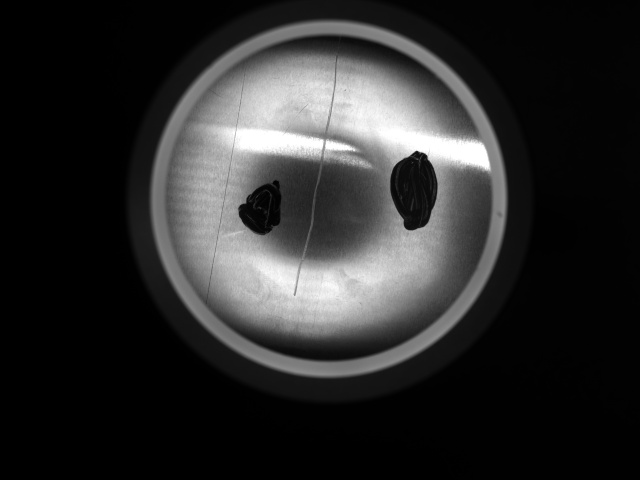ca_shang: (292, 34, 340, 297), (204, 62, 247, 304)
zang_wu: (389, 149, 438, 232), (238, 178, 285, 236)
